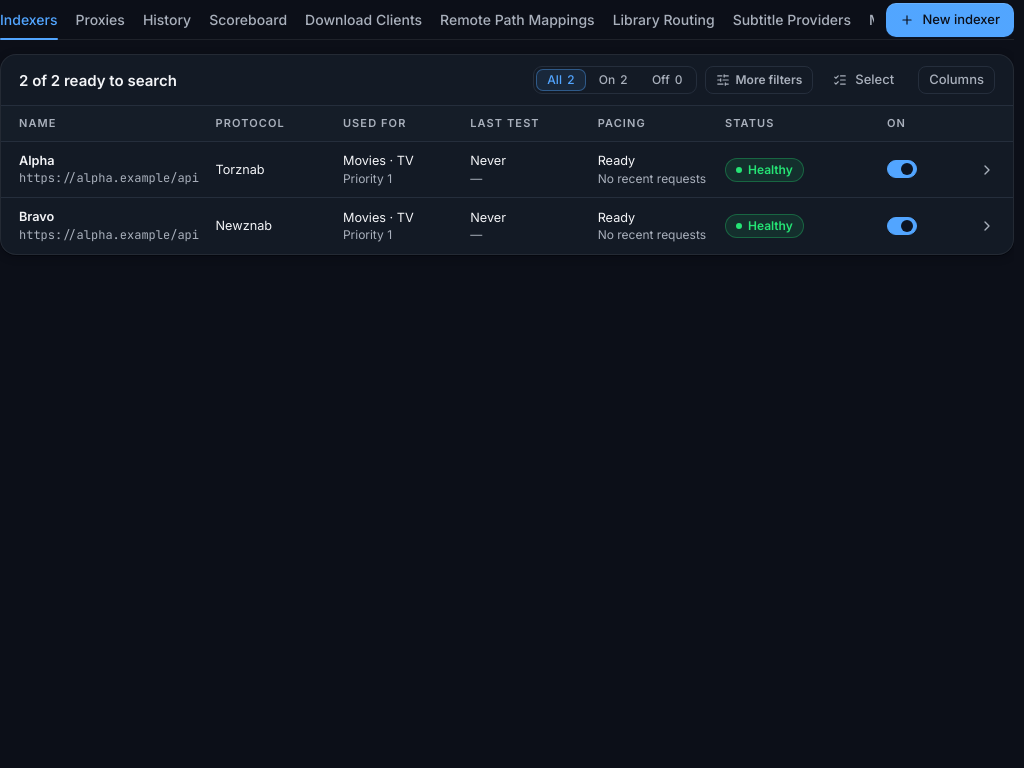
Test: the Indexers tab, low rows (#1329) › filtering to nothing says No indexers match these filters with the hint, and Clear filters brings the list back
The width and height of the screenshot is (1024, 768).
Click the button "More filters": {"x": 759, "y": 80} 704,66 -> 813,94
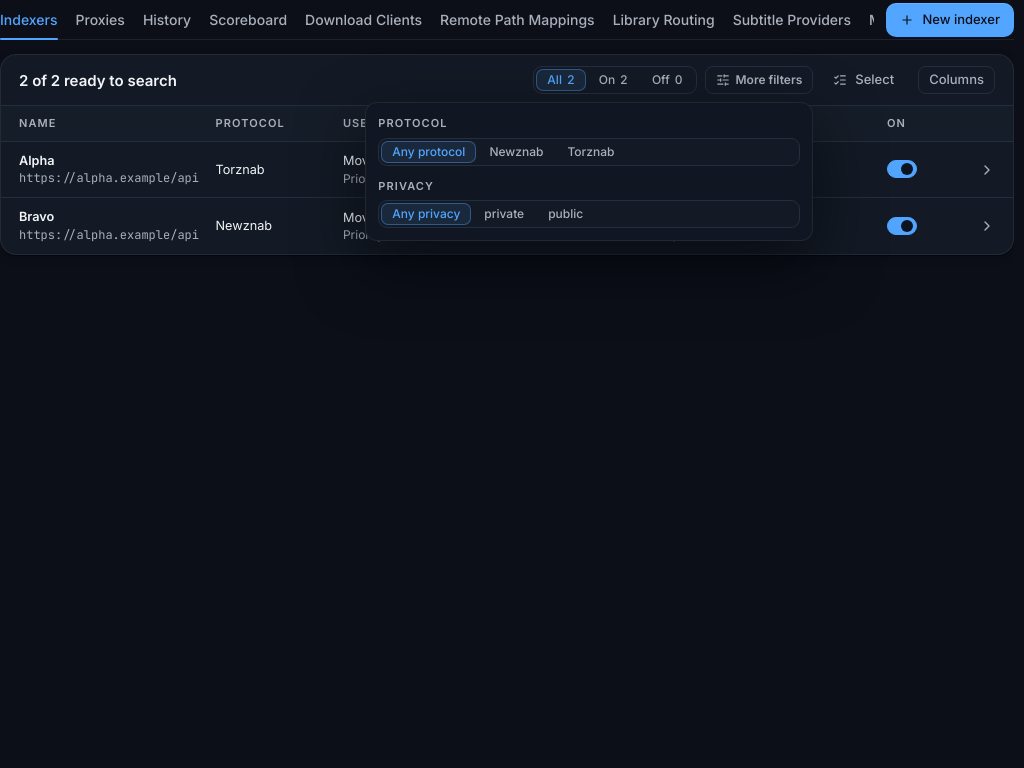
Click the radio button labelled "Torznab": {"x": 591, "y": 152} 556,140 -> 626,162
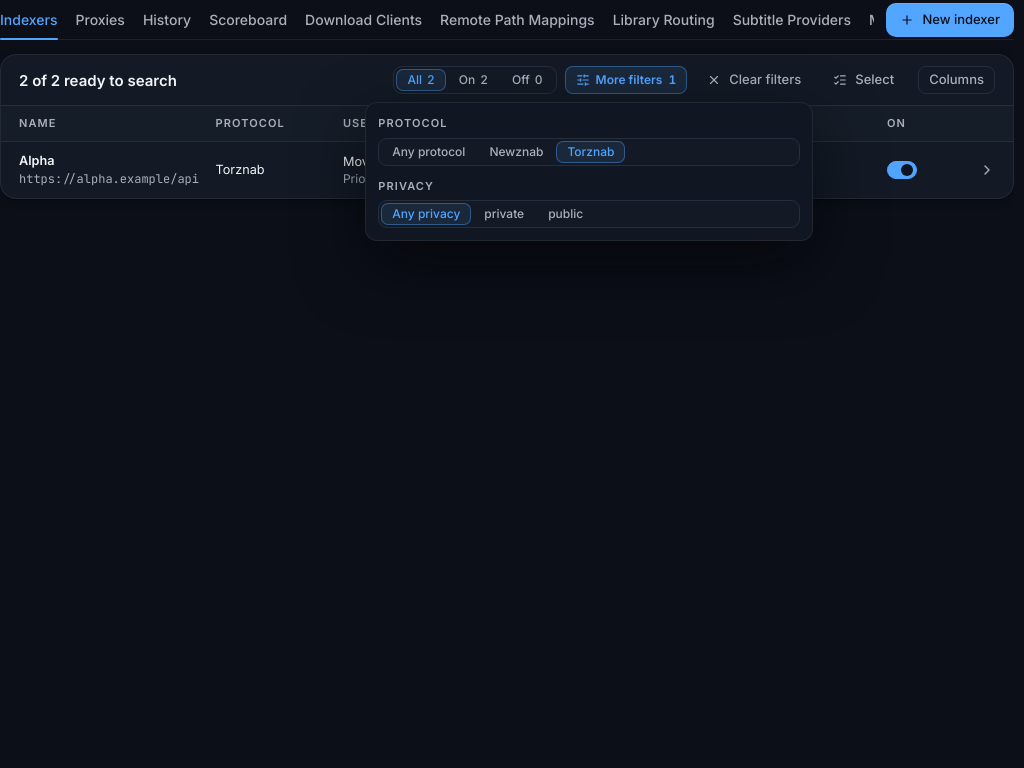
Click the radio button labelled "private": {"x": 504, "y": 214} 473,203 -> 535,225
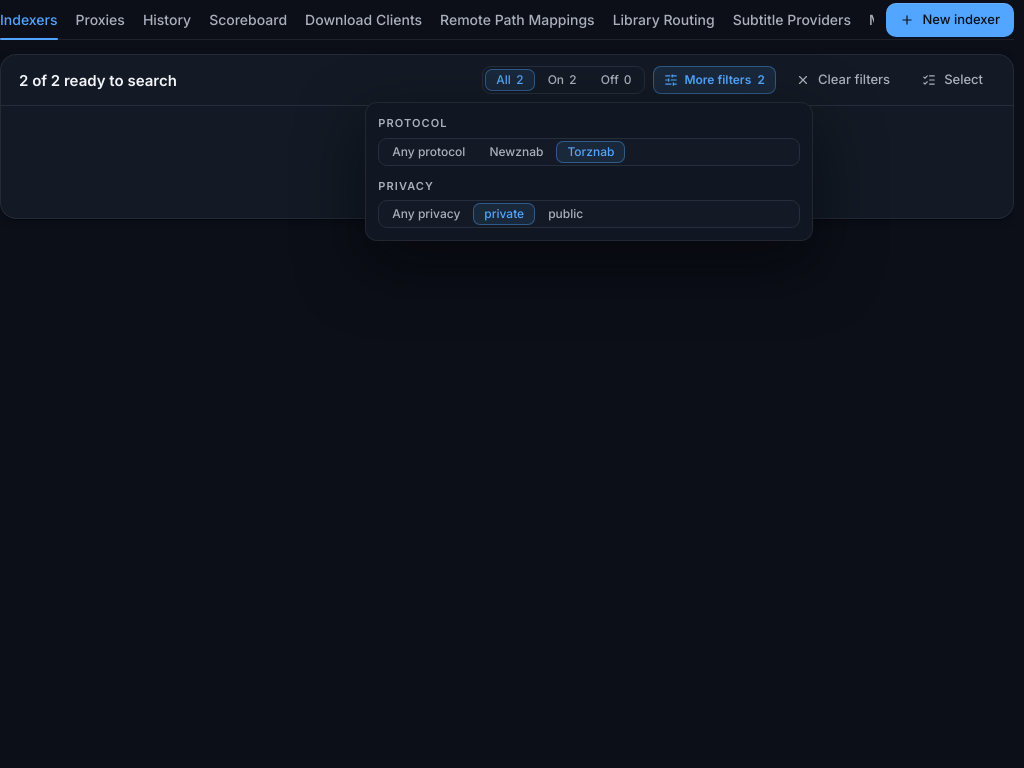
Expected: the text "No indexers match these filters" is shown, 402,140 -> 612,160
Expected: the text "Clear a filter to see the rest of your indexers." is shown, 381,166 -> 633,184
Click the button "Clear filters": {"x": 843, "y": 80} 784,63 -> 902,97
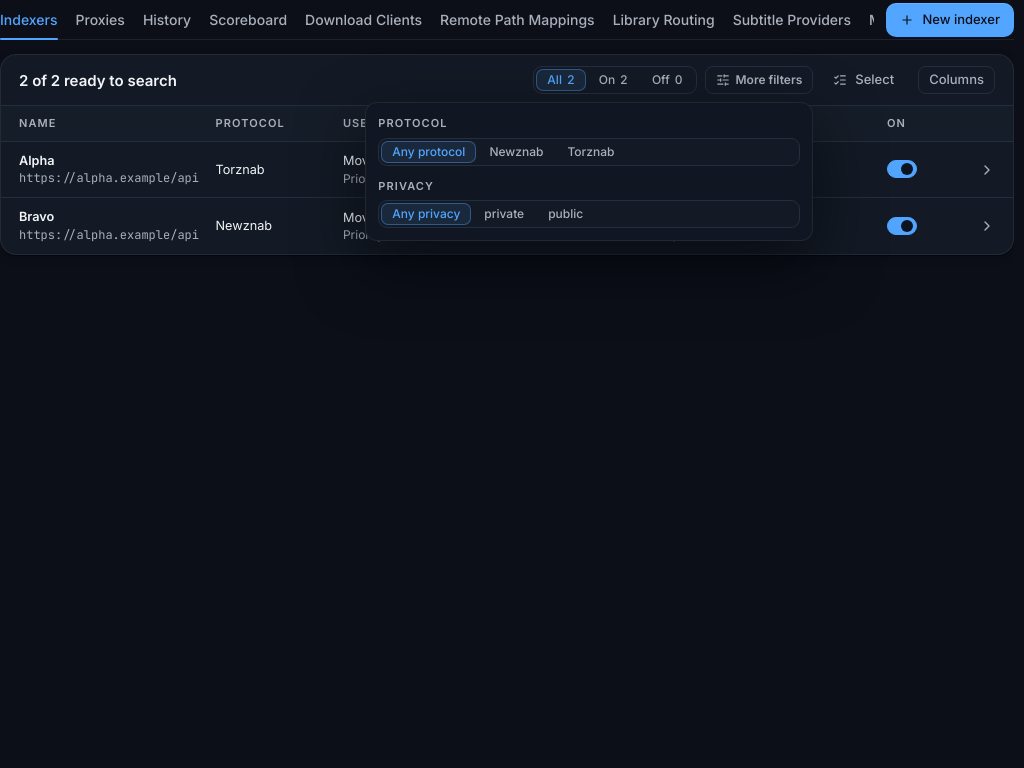
Expected: the text "No indexers match these filters" is gone
